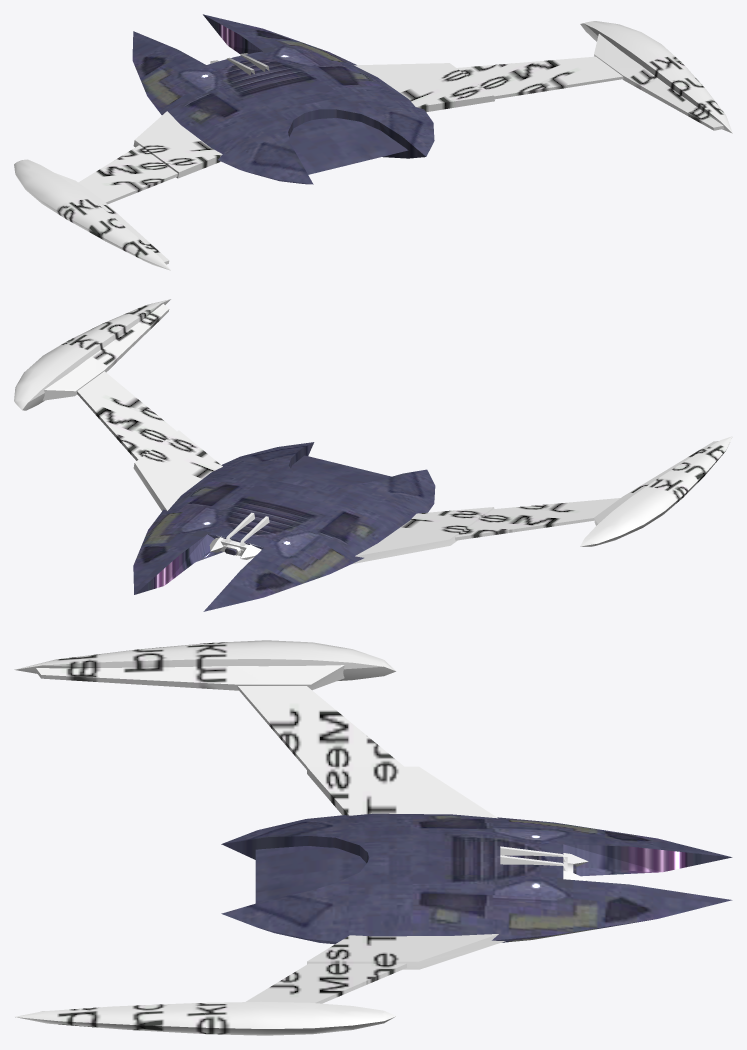
The model's file is Dom_Insidious.fbx.
3 views of the same model, one above another, from view 1: azimuth 30°, elevation 25°; view 2: azimuth 150°, elevation 25°; view 3: azimuth 270°, elevation 25° (orthographic). The views are drawn at different scales.
Parts seen in each view (by area): view 1: Dom_Insidious; view 2: Dom_Insidious; view 3: Dom_Insidious.
Boxes of the visible parts, x1,y1,x2,y2 form: Dom_Insidious: (14,14,732,270); Dom_Insidious: (14,299,732,611); Dom_Insidious: (14,640,732,1035).
Bounding box in the file's own units: 270 × 31.23 × 212.
Materials: 1 (1 with a texture image).
